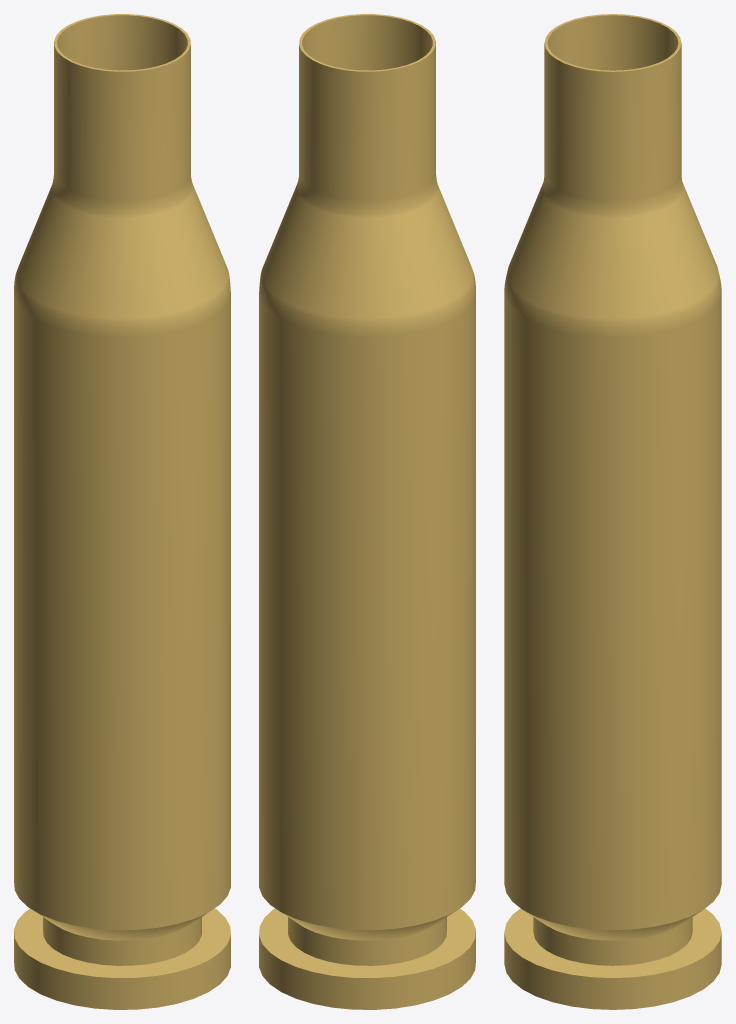
The model's file is BulletCasing.fbx.
The picture shows the model from 3 angles, left to right: view 1: azimuth 30°, elevation 25°; view 2: azimuth 150°, elevation 25°; view 3: azimuth 270°, elevation 25°; orthographic projection.
Parts seen in each view (by area): view 1: Casing; view 2: Casing; view 3: Casing.
Part boxes in pixels (left/top/right/bottom): Casing: left=14, top=14, right=230, bottom=1009; Casing: left=259, top=14, right=475, bottom=1009; Casing: left=504, top=14, right=721, bottom=1009.
Size of the model in its own units: 2.15 by 10.05 by 2.15.
